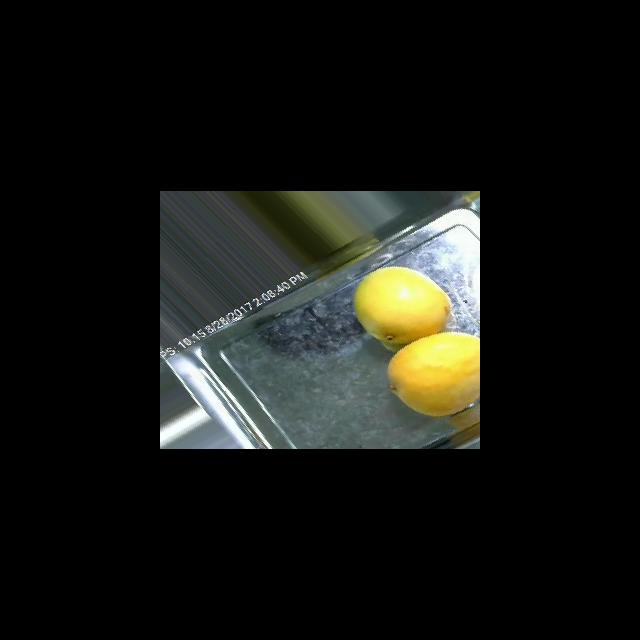mango: (353, 265, 451, 351), (386, 331, 479, 417)
